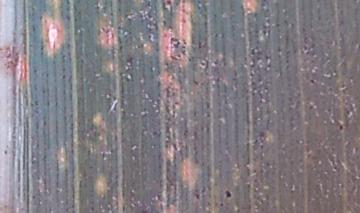tarspot: (222, 187, 235, 202), (1, 146, 10, 159), (336, 121, 344, 135), (306, 76, 316, 87), (163, 1, 175, 7)
